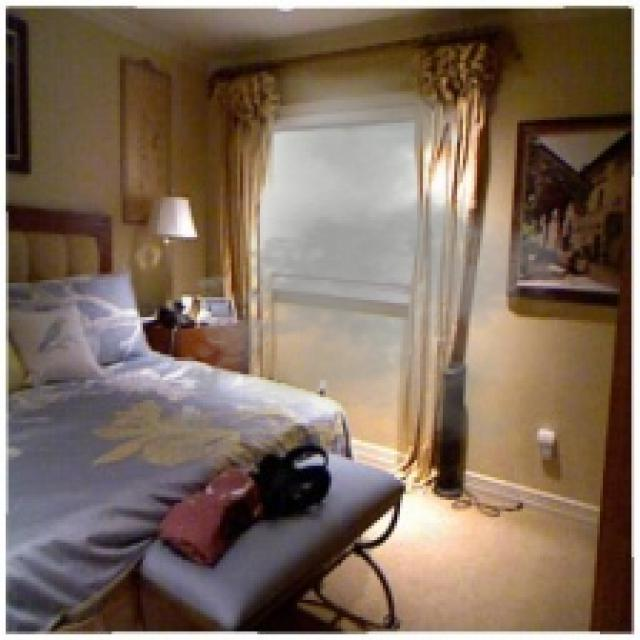smoke: (168, 68, 583, 446)
